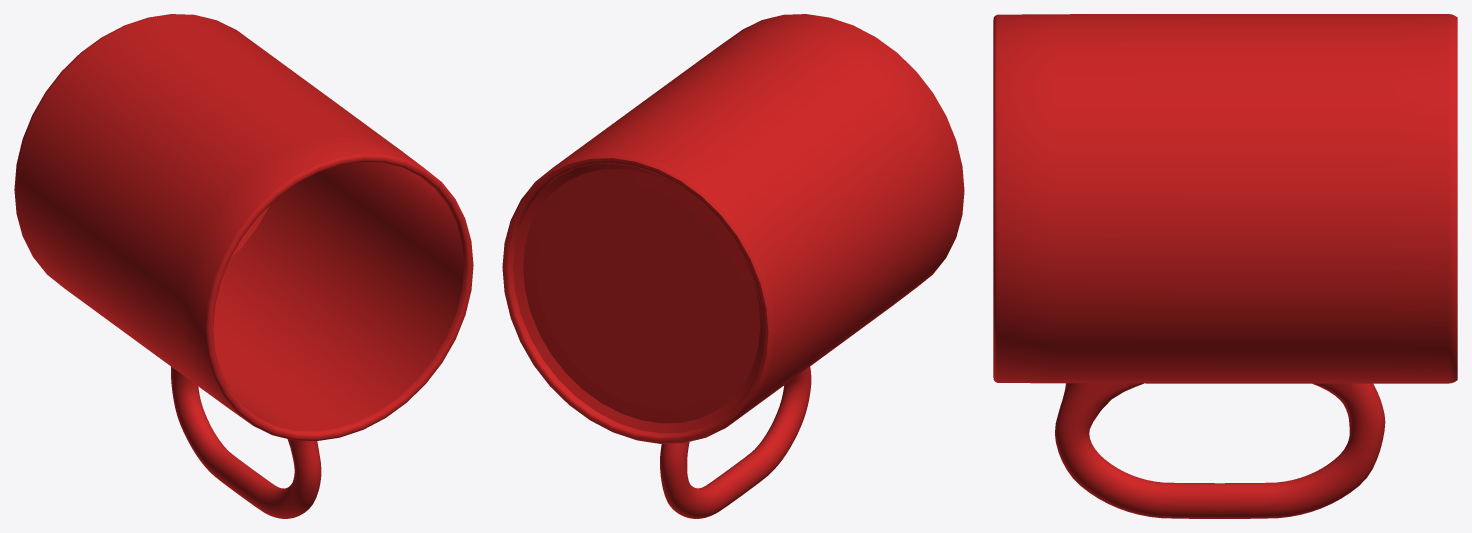
3 views of the same model, side by side, from view 1: azimuth 30°, elevation 25°; view 2: azimuth 150°, elevation 25°; view 3: azimuth 270°, elevation 25° (orthographic). The views are drawn at different scales.
Bounding box in the file's own units: 0.6903 × 1 × 0.8636.
